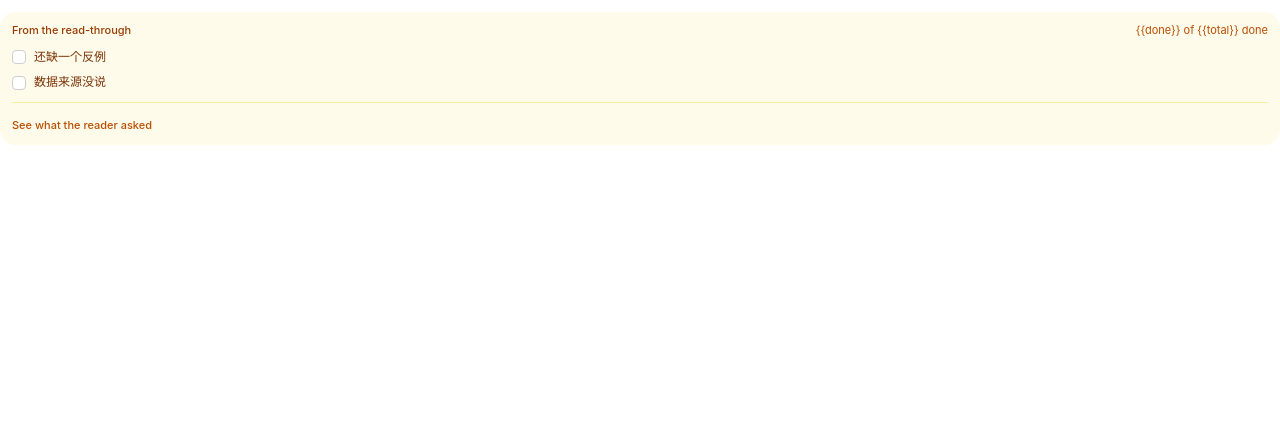
关掉试读之后，学生仍能展开看到本轮完整往来
Expected: the text "这一点说服不了我 1" is not shown
Click the button "See what the reader asked" at [82, 125], box [12, 116, 152, 133]
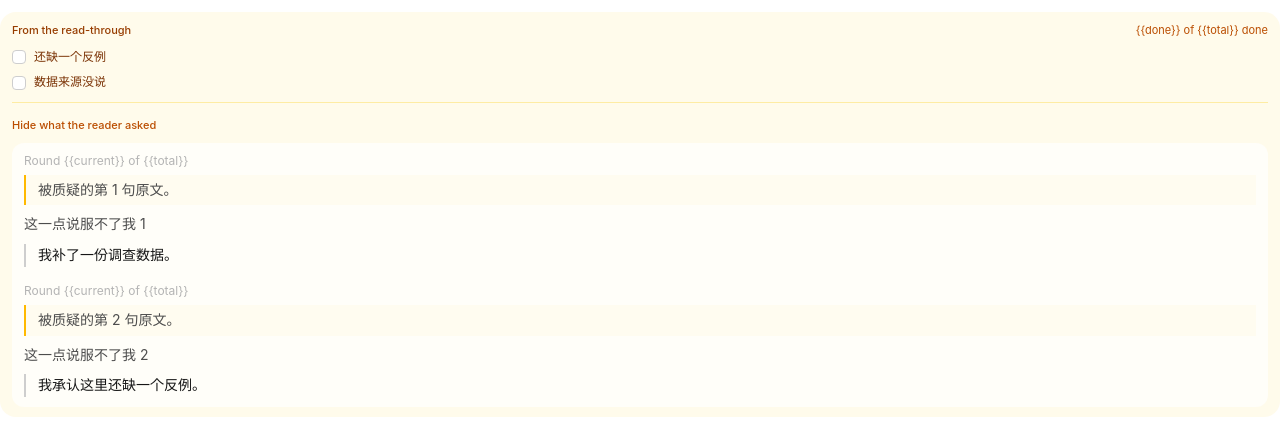
Expected: the text "这一点说服不了我 1" is shown, [24, 215, 146, 232]
Expected: the text "这一点说服不了我 2" is shown, [24, 346, 148, 362]
Expected: the text "我补了一份调查数据。" is shown, [24, 244, 1256, 267]
